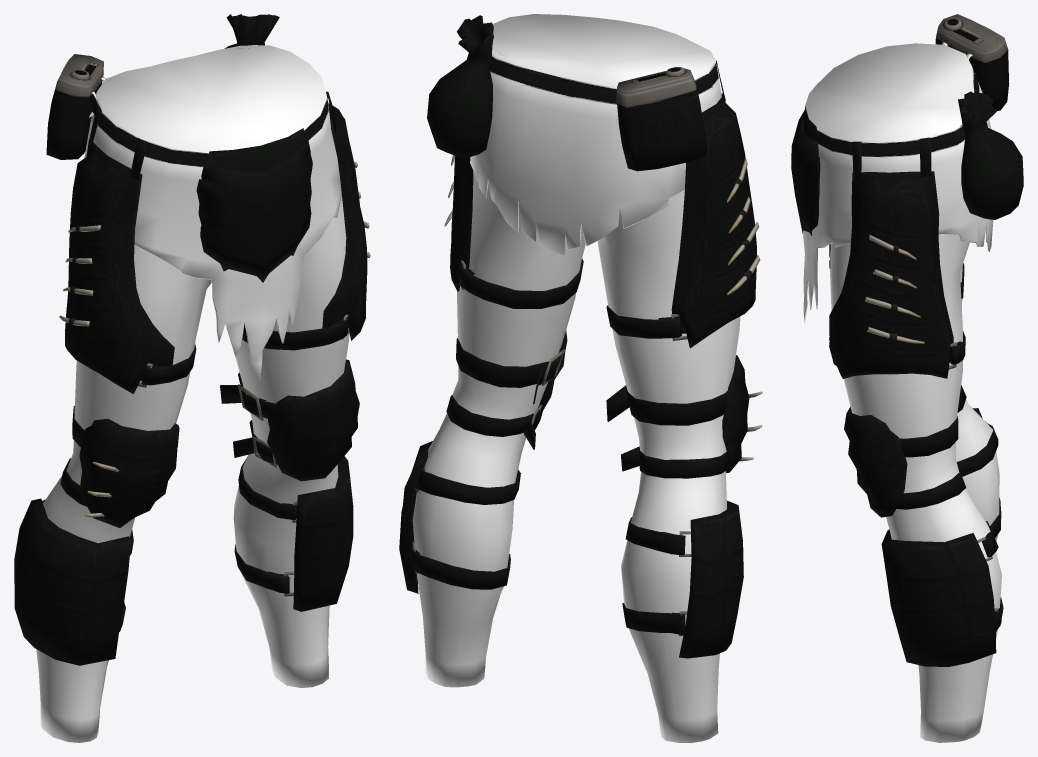
File: SurvivorMale_Legs_Pants_Wasteland_LOD0.glb
3 renders of one model, left to right at view 1: azimuth 30°, elevation 25°; view 2: azimuth 150°, elevation 25°; view 3: azimuth 270°, elevation 25°, orthographic. The views are drawn at different scales.
Visible parts, largest first — view 1: Hoodie; view 2: Hoodie; view 3: Hoodie.
Boxes of the visible parts, x1=… form: Hoodie: x1=14, y1=14, x2=370, y2=742; Hoodie: x1=399, y1=14, x2=762, y2=742; Hoodie: x1=791, y1=14, x2=1023, y2=742.
Size of the model in its own units: 0.4992 by 0.9885 by 0.3344.
Materials: 1 (1 with a texture image).
